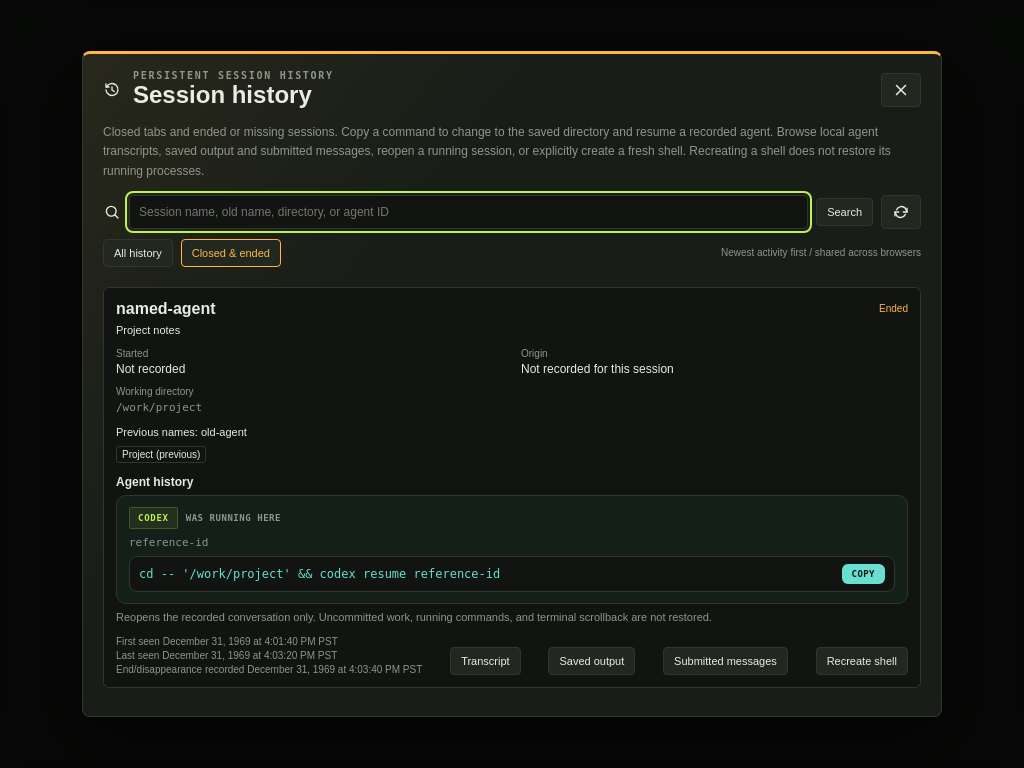
SessionHistoryDialog › opens saved messages for an ended session without recreating its shell
The image size is (1024, 768).
Step 1. Click the button with aria-label "Submitted messages for named-agent" → (725, 661), box [663,647,788,675]
(page scrolled)
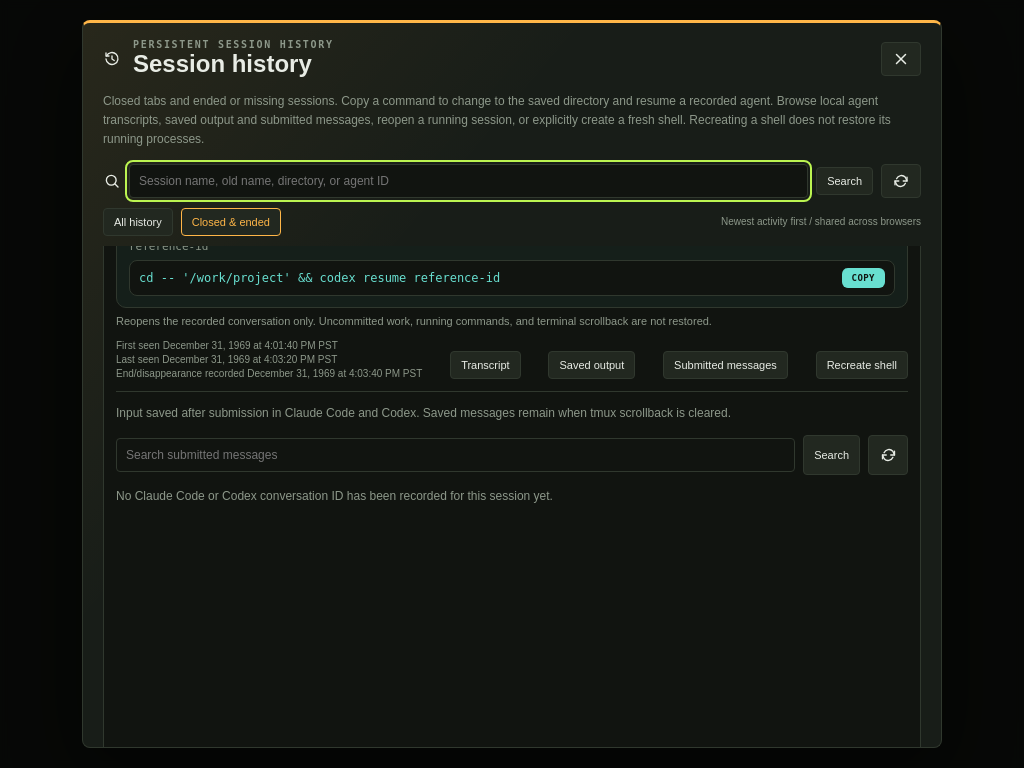
expect the text "No Claude Code or Codex conversation ID" is shown: met, box [116,489,553,503]
